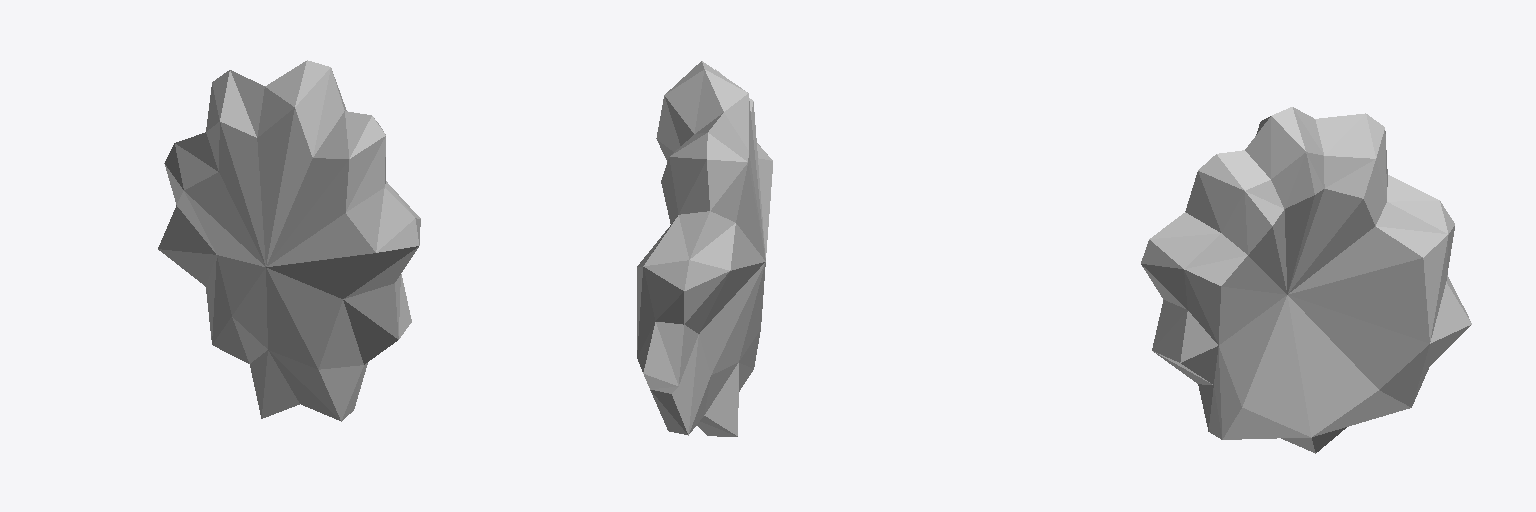
File: sakurai Sayamira accessory.obj
3 views of the same model, side by side, from view 1: azimuth 30°, elevation 25°; view 2: azimuth 150°, elevation 25°; view 3: azimuth 270°, elevation 25° (orthographic).
Bounding box in the file's own units: 14.69 × 20.92 × 20.54.